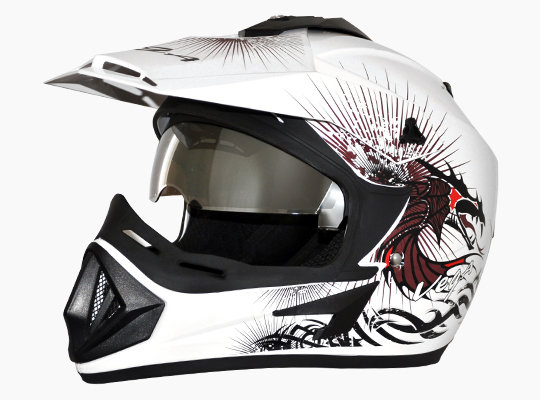with_helmet: (36, 7, 509, 388)
